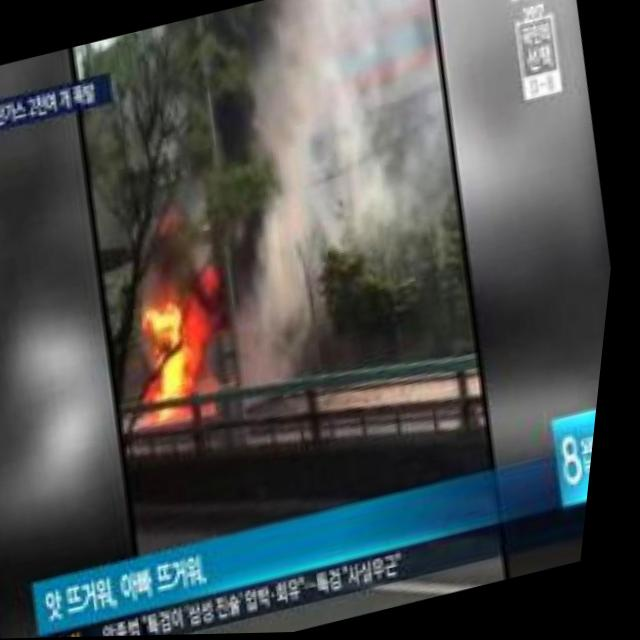Fire: (127, 308, 235, 438)
